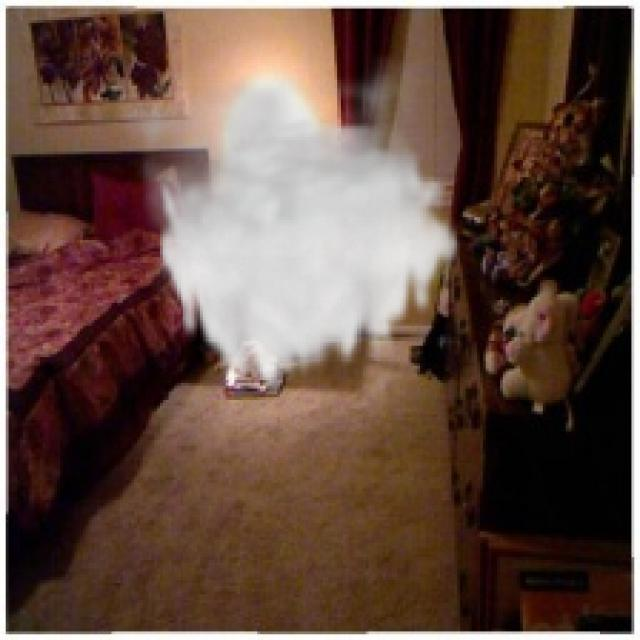Smoke: (91, 48, 463, 403)
